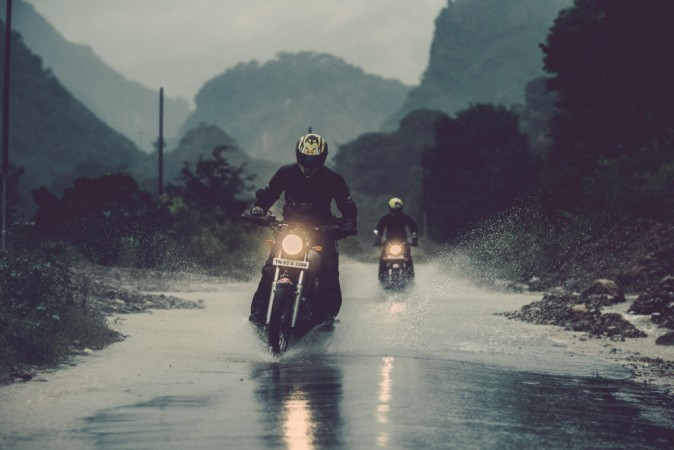helmet: (293, 135, 334, 174), (385, 197, 405, 212)
